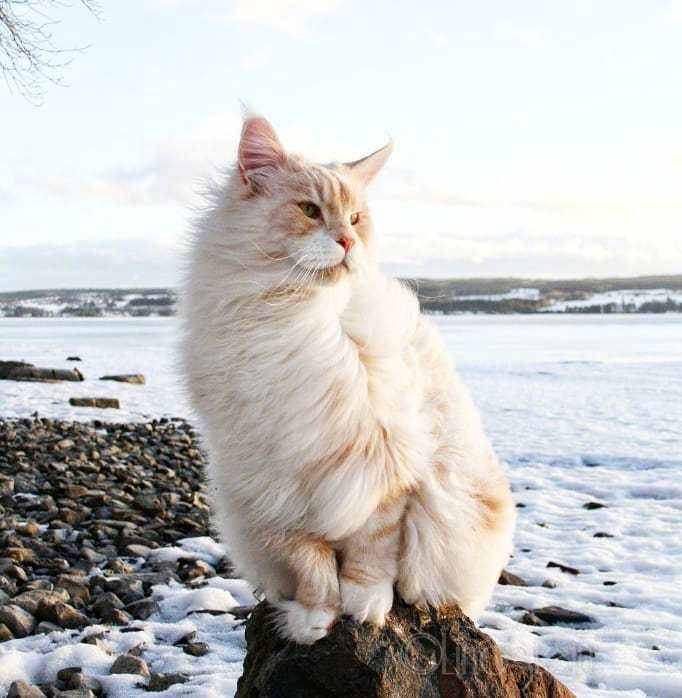cat: (176, 113, 515, 642)
